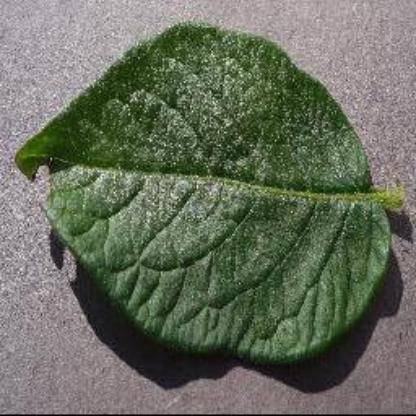Healthy-plant: (10, 13, 408, 376)
